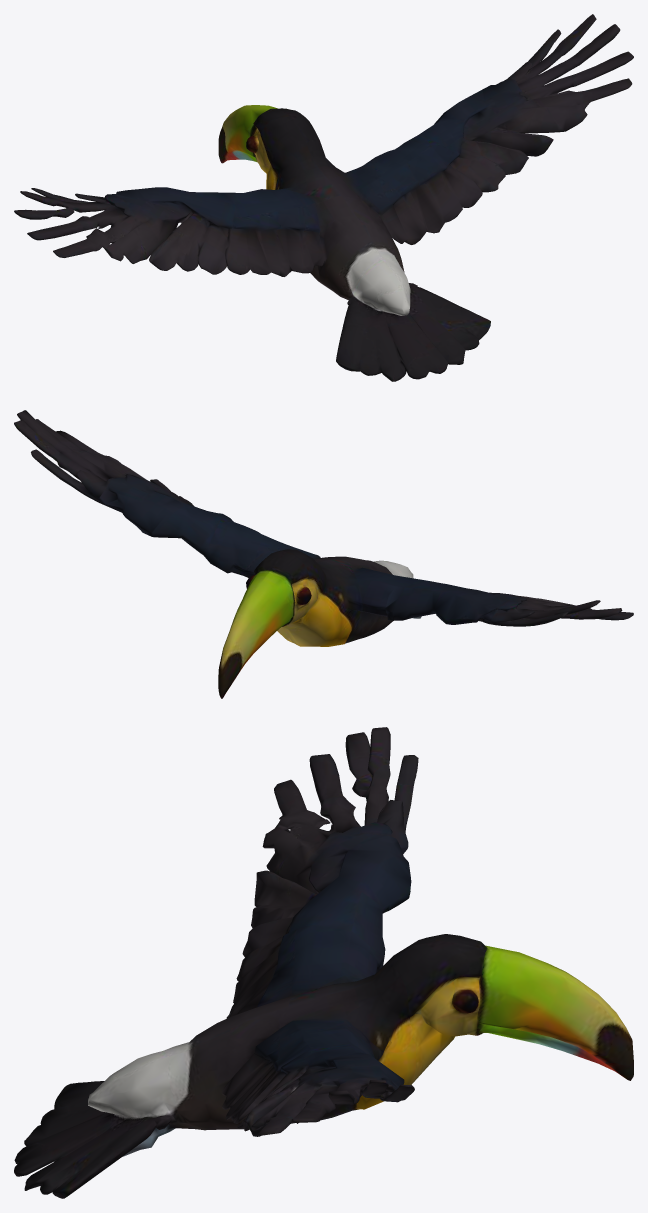
File: toucan.glb
3 renders of one model, top to bottom at view 1: azimuth 30°, elevation 25°; view 2: azimuth 150°, elevation 25°; view 3: azimuth 270°, elevation 25°, orthographic. The views are drawn at different scales.
Parts seen in each view (by area): view 1: tripo_node_765e638c-9334-4ef8-838c-4366722f5795; view 2: tripo_node_765e638c-9334-4ef8-838c-4366722f5795; view 3: tripo_node_765e638c-9334-4ef8-838c-4366722f5795.
Boxes of the visible parts, x1,y1,x2,y2 form: tripo_node_765e638c-9334-4ef8-838c-4366722f5795: (14,14,633,381); tripo_node_765e638c-9334-4ef8-838c-4366722f5795: (14,410,633,698); tripo_node_765e638c-9334-4ef8-838c-4366722f5795: (14,727,633,1198).
Size of the model in its own units: 0.9996 by 0.3205 by 0.613.
1 material, 1 textured.
